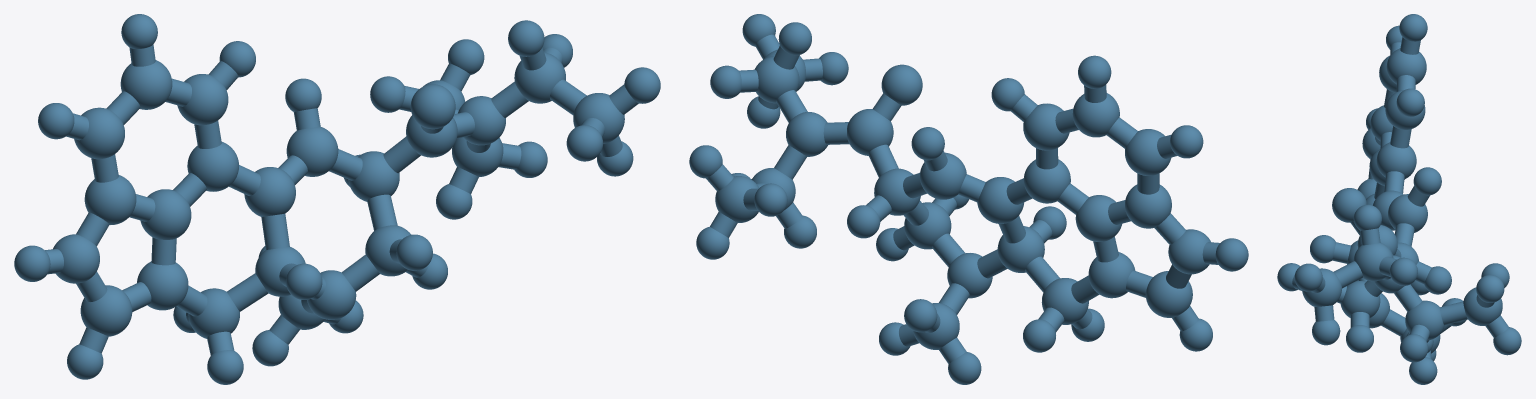
Rendered from lsd.glb.
The picture shows the model from 3 angles, left to right: view 1: azimuth 30°, elevation 25°; view 2: azimuth 150°, elevation 25°; view 3: azimuth 270°, elevation 25°; orthographic projection. The views are drawn at different scales.
Visible parts, largest first — view 1: atoms, bonds; view 2: atoms, bonds; view 3: atoms, bonds.
Part boxes in pixels (<box>): atoms: <box>14,14,660,384</box>; bonds: <box>45,44,638,355</box>; atoms: <box>689,14,1248,384</box>; bonds: <box>706,34,1219,363</box>; atoms: <box>1277,14,1521,384</box>; bonds: <box>1292,37,1508,359</box>.
Bounding box in the file's own units: 13.56 × 8.41 × 6.22.
